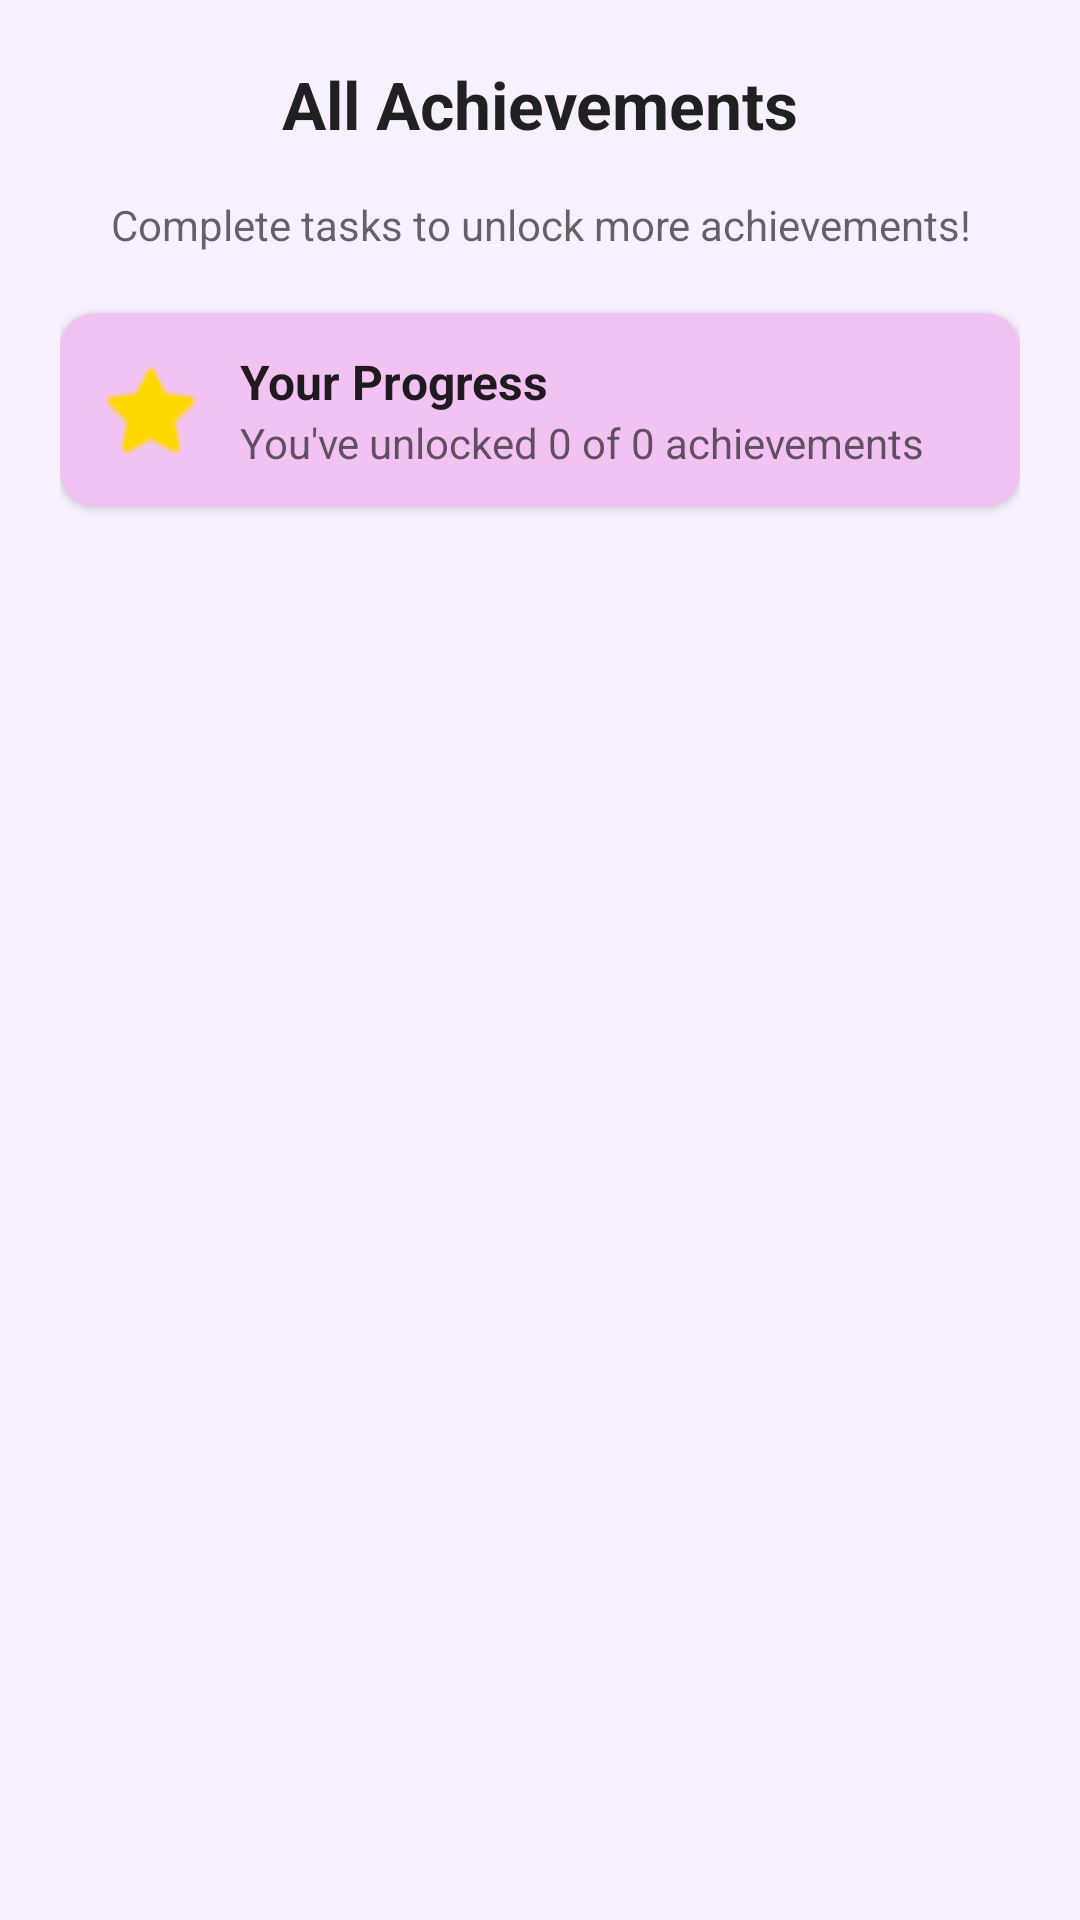

Point at icon controls on the screen. Image size 1080*1920, points as (x,y).
star on: (151,411)
